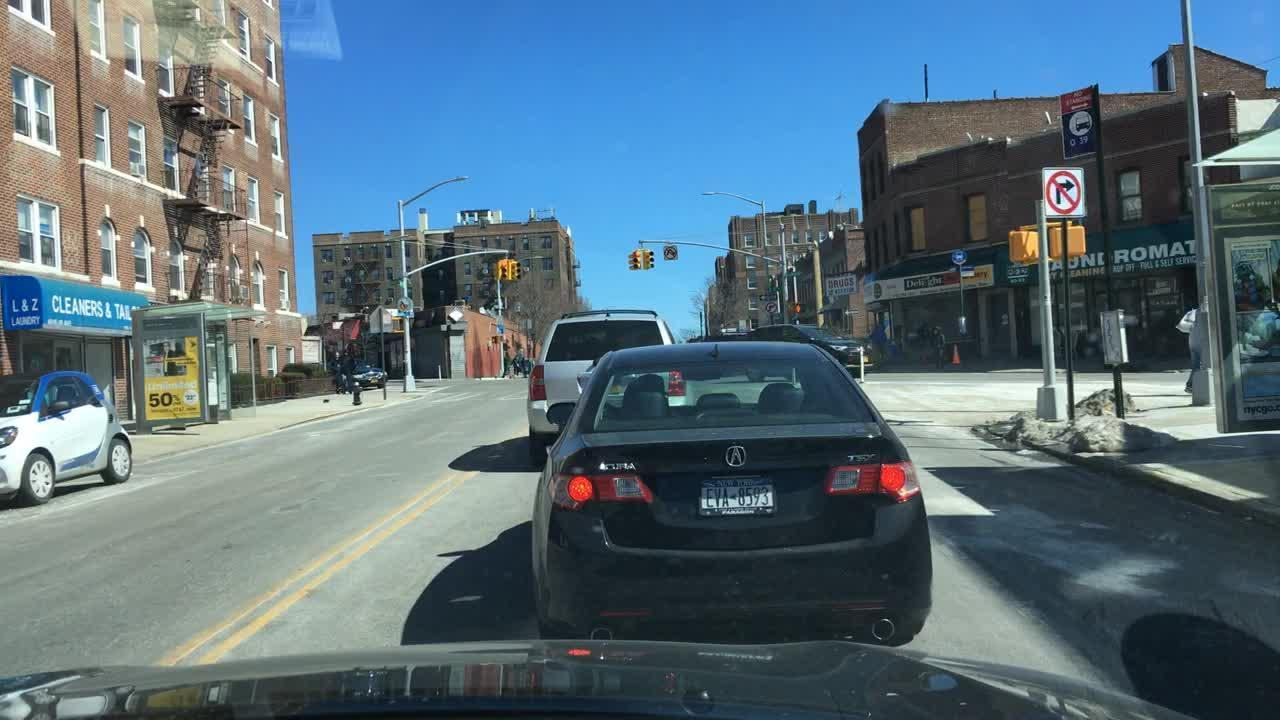acura: (716, 438, 756, 476)
